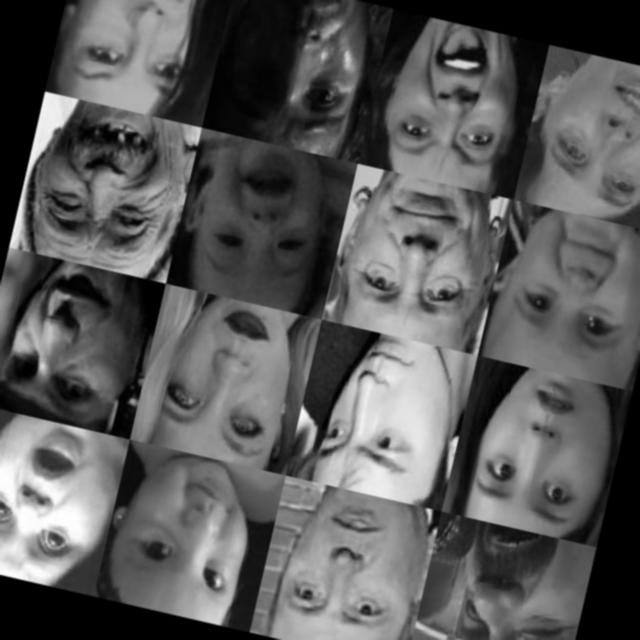angry: (372, 11, 534, 178), (0, 254, 149, 427), (308, 328, 446, 492)
fear: (466, 368, 620, 532), (0, 407, 122, 590)
happy: (181, 130, 347, 308), (23, 94, 192, 268), (334, 170, 504, 337), (108, 450, 267, 628), (491, 202, 640, 373), (418, 517, 591, 640), (59, 0, 226, 114)
neutral: (275, 482, 428, 640)
sad: (142, 294, 304, 460), (213, 0, 375, 154), (522, 45, 640, 213)
